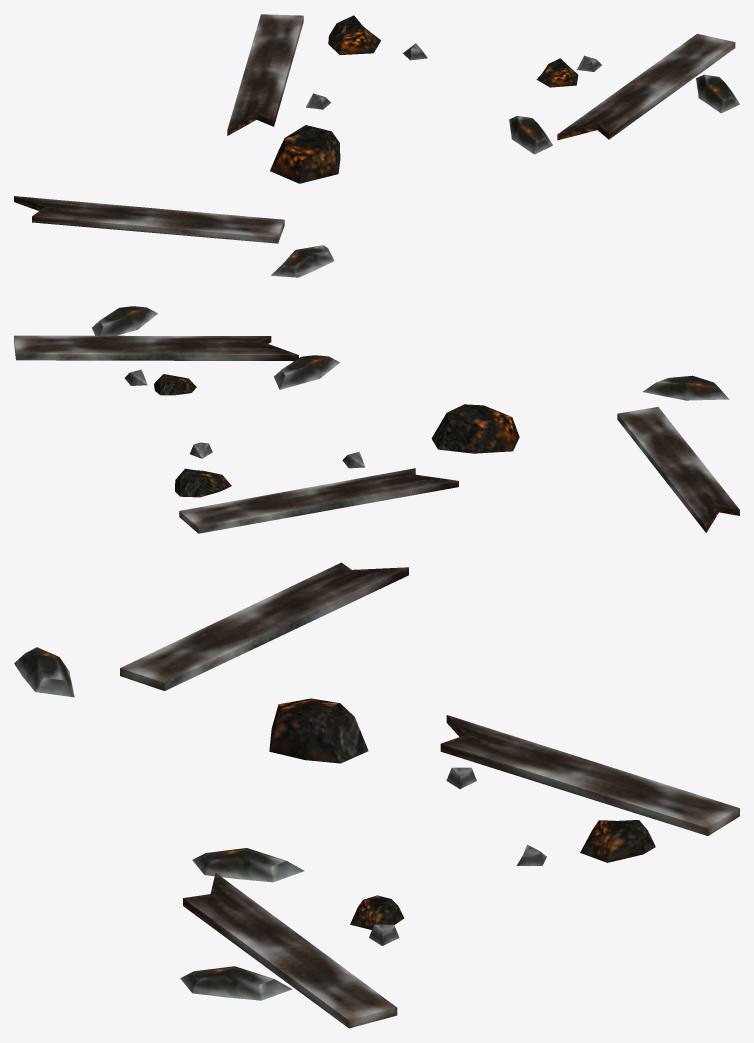
The model's file is S7_new3d_xue_huodui002.FBX.
3 views of the same model, one above another, from view 1: azimuth 30°, elevation 25°; view 2: azimuth 150°, elevation 25°; view 3: azimuth 270°, elevation 25° (orthographic). The views are drawn at different scales.
Visible parts, largest first — view 1: S7_new3d_xue_huodui002; view 2: S7_new3d_xue_huodui002; view 3: S7_new3d_xue_huodui002.
Part boxes in pixels (left/top/right/bottom): S7_new3d_xue_huodui002: left=14, top=14, right=739, bottom=277; S7_new3d_xue_huodui002: left=14, top=306, right=739, bottom=533; S7_new3d_xue_huodui002: left=14, top=562, right=739, bottom=1028.
Size of the model in its own units: 4.09 by 0.1869 by 2.74.
Materials: 1 (1 with a texture image).
